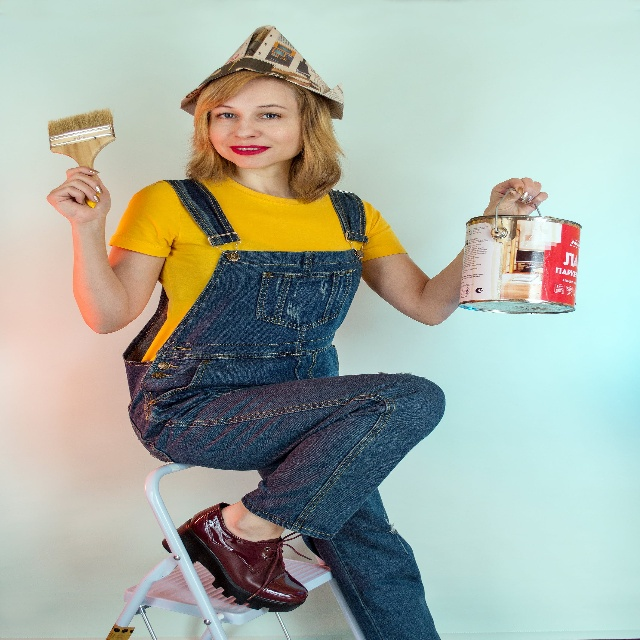Sin_guantes: (46, 164, 111, 223), (485, 176, 547, 217)
